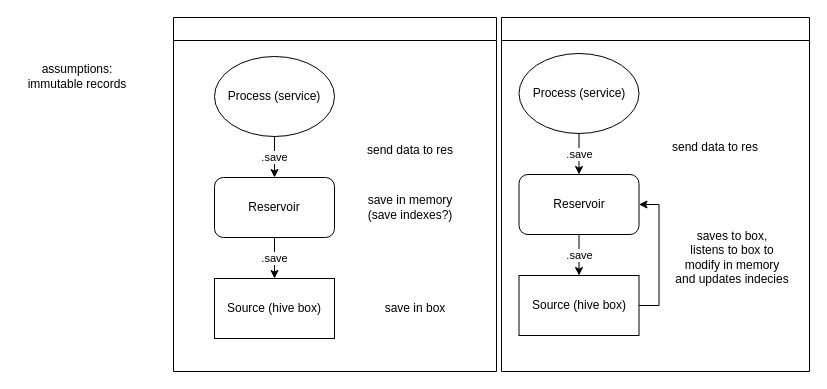
Some shapes in this 827 by 389 pixel diagram are drawn without their labels. The box of each missing label's shape, as (x1, y1, x2, y2) in pixels:
Disk as backup, (in memory is truth): (172, 16, 496, 372)
Disk as single source of Truth: (500, 16, 810, 372)
